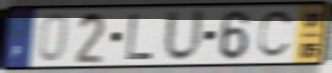0: (36, 11, 72, 66)
2: (72, 10, 108, 65)
6: (218, 8, 254, 63)
C: (256, 8, 296, 61)
L: (123, 12, 156, 62)
U: (162, 7, 207, 65)
